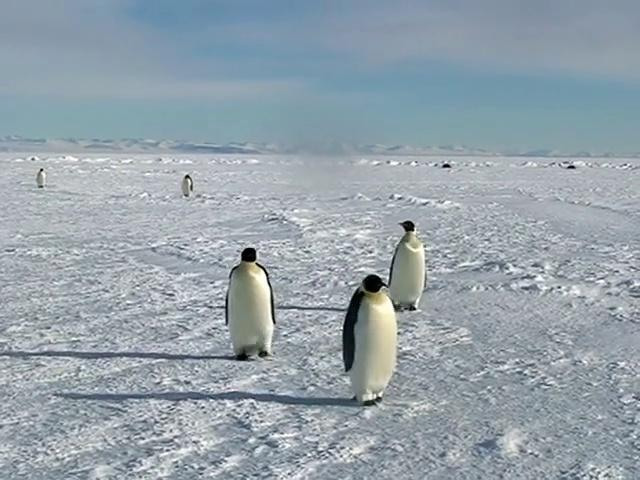animal: (390, 221, 427, 310)
